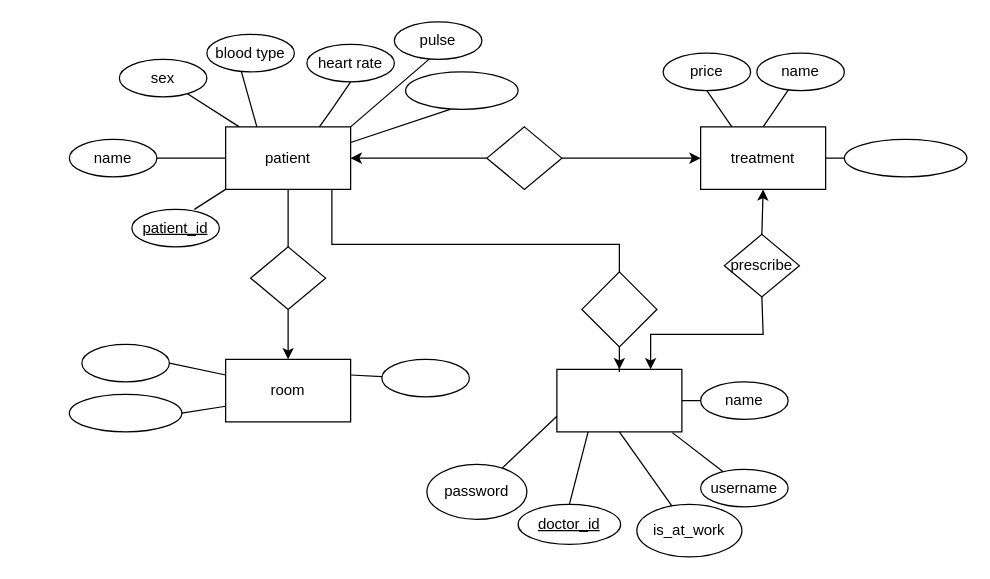
The diagram is 990 pixels wide and 579 high, and some of its shapes have lost their labels. Each missing label, with the centre of its shape:
"bed_id" belongs at point 125,412.
"doctor" belongs at point 619,400.
"IS_AVAIL" belongs at point 425,377.
"pay for" belongs at point 524,157.
"room id" belongs at point 125,362.
"stay at" belongs at point 287,277.
"temperature" belongs at point 461,90.
"treated by" belongs at point 619,309.
"treatment_id" belongs at point 905,157.
